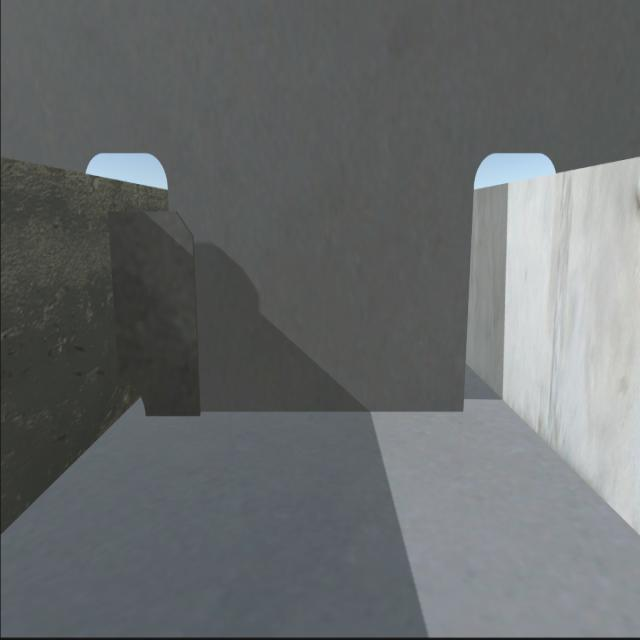fillet_hole: (114, 377, 150, 422)
fillet_yong_jeop_jang: (154, 407, 466, 418)
longi_yong_jeop_jang: (106, 209, 124, 376)
plate_CP03: (111, 206, 200, 426)
